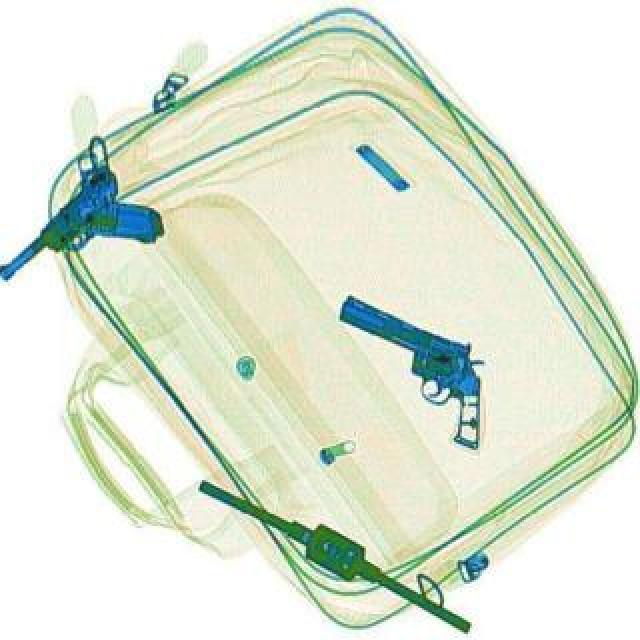gun: (302, 290, 518, 452), (0, 160, 164, 312)
